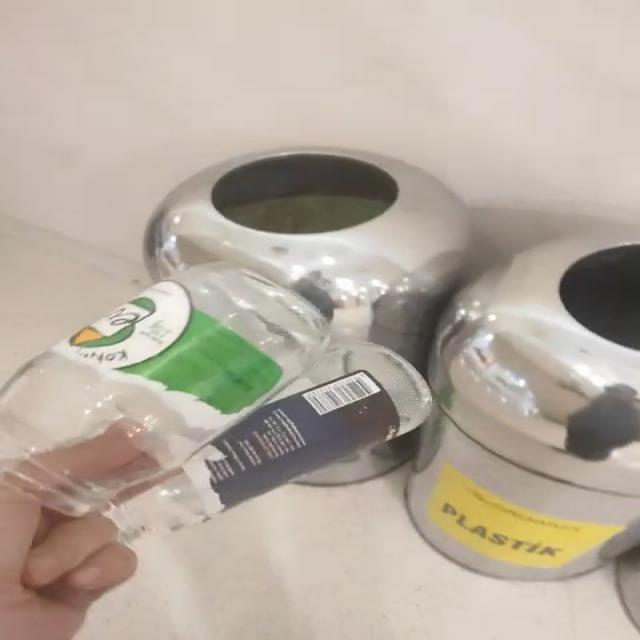glass: (3, 263, 432, 539)
